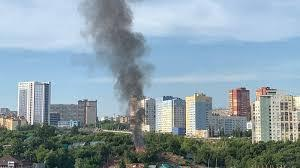smoke: (74, 0, 151, 102)
